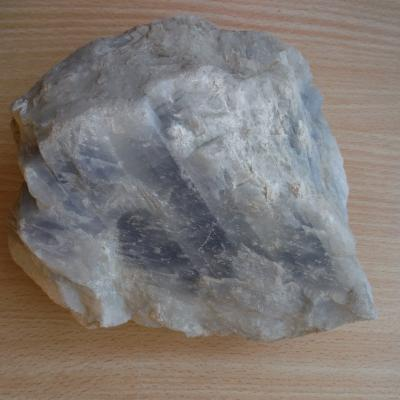mineralogy: (9, 15, 377, 340)
